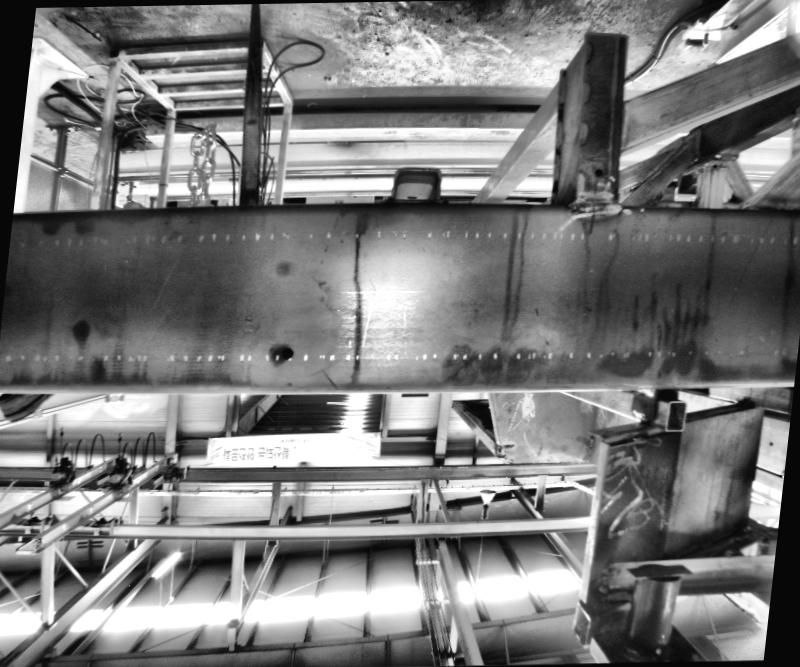bracket: (375, 157, 454, 201)
hole: (280, 345, 292, 357), (592, 168, 602, 176)
welding: (568, 186, 617, 206)
